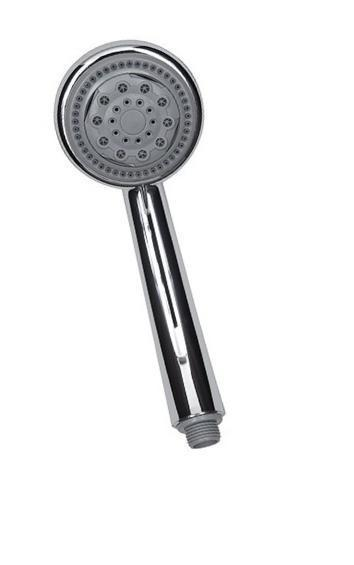Ducha: (44, 28, 266, 461)
